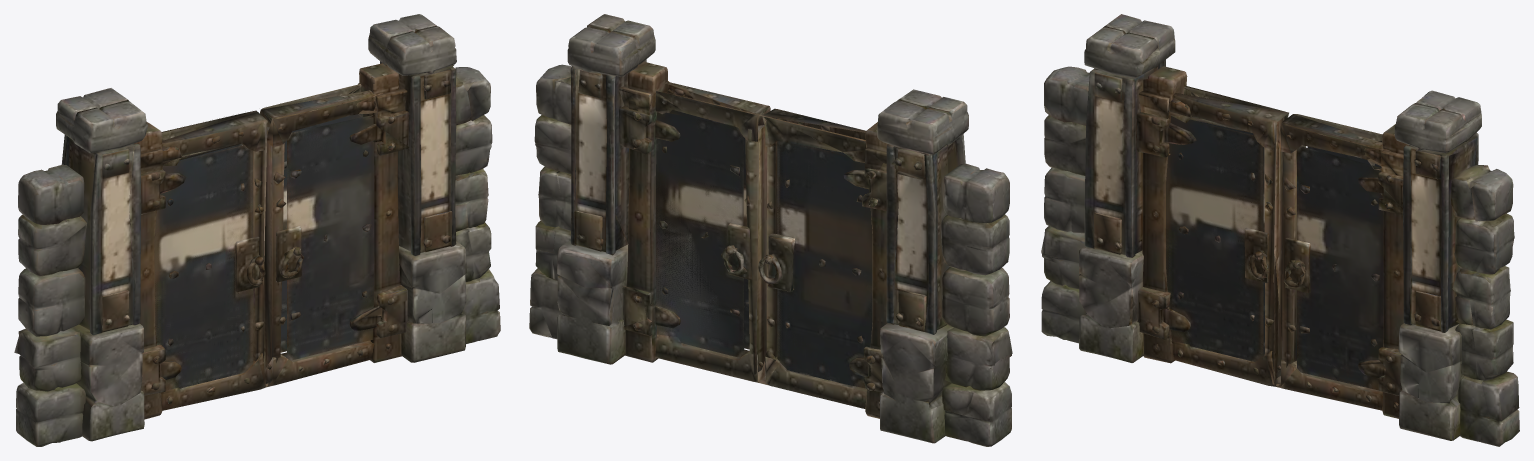
File: shelter_t3_gate.glb
3 views of the same model, side by side, from view 1: azimuth 30°, elevation 25°; view 2: azimuth 150°, elevation 25°; view 3: azimuth 330°, elevation 25° (orthographic).
Size of the model in its own units: 0.3315 by 0.2148 by 0.0508.
1 material, 1 textured.
